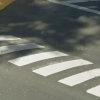Crosswalk: (4, 34, 89, 93)
